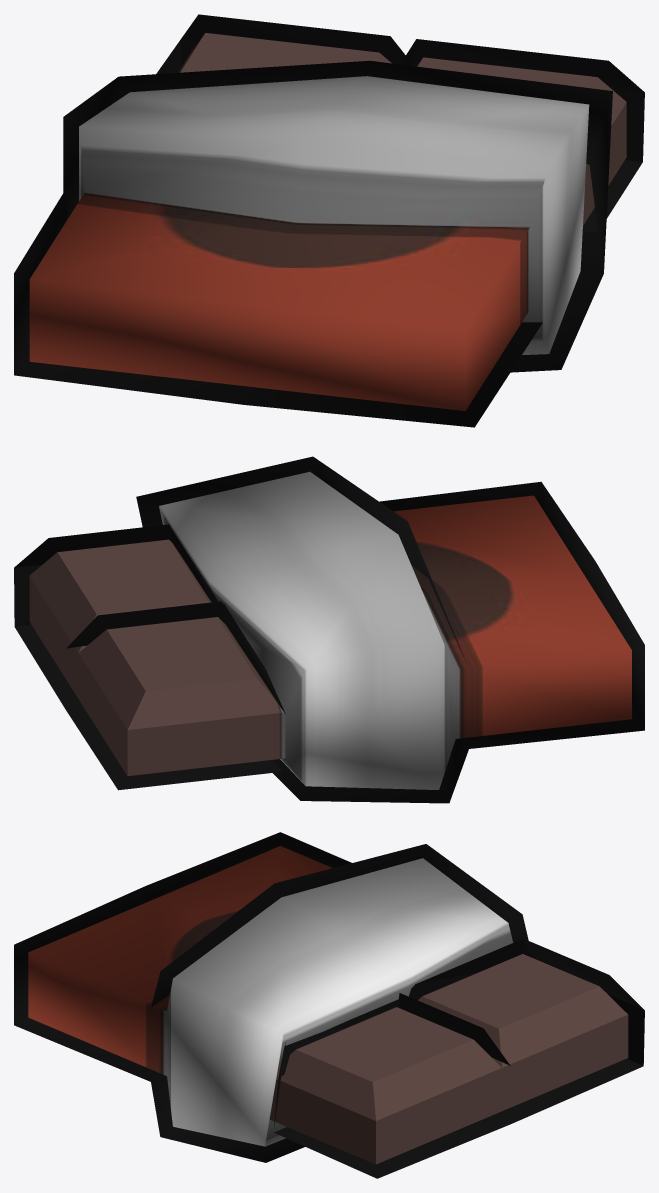
Rendered from candy.FBX.
3 views of the same model, one above another, from view 1: azimuth 30°, elevation 25°; view 2: azimuth 150°, elevation 25°; view 3: azimuth 270°, elevation 25° (orthographic). The views are drawn at different scales.
Visible parts, largest first — view 1: Box029; view 2: Box029; view 3: Box029.
Part boxes in pixels (box(x1,y1,x2,y2)): Box029: box(14, 14, 644, 427); Box029: box(14, 456, 644, 803); Box029: box(14, 832, 644, 1178).
Bounding box in the file's own units: 0.9062 × 0.3152 × 0.9062.
